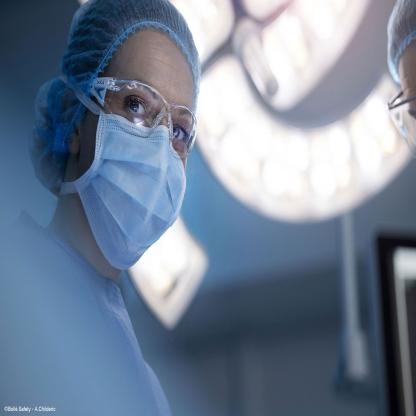oculos: (90, 74, 197, 159)
